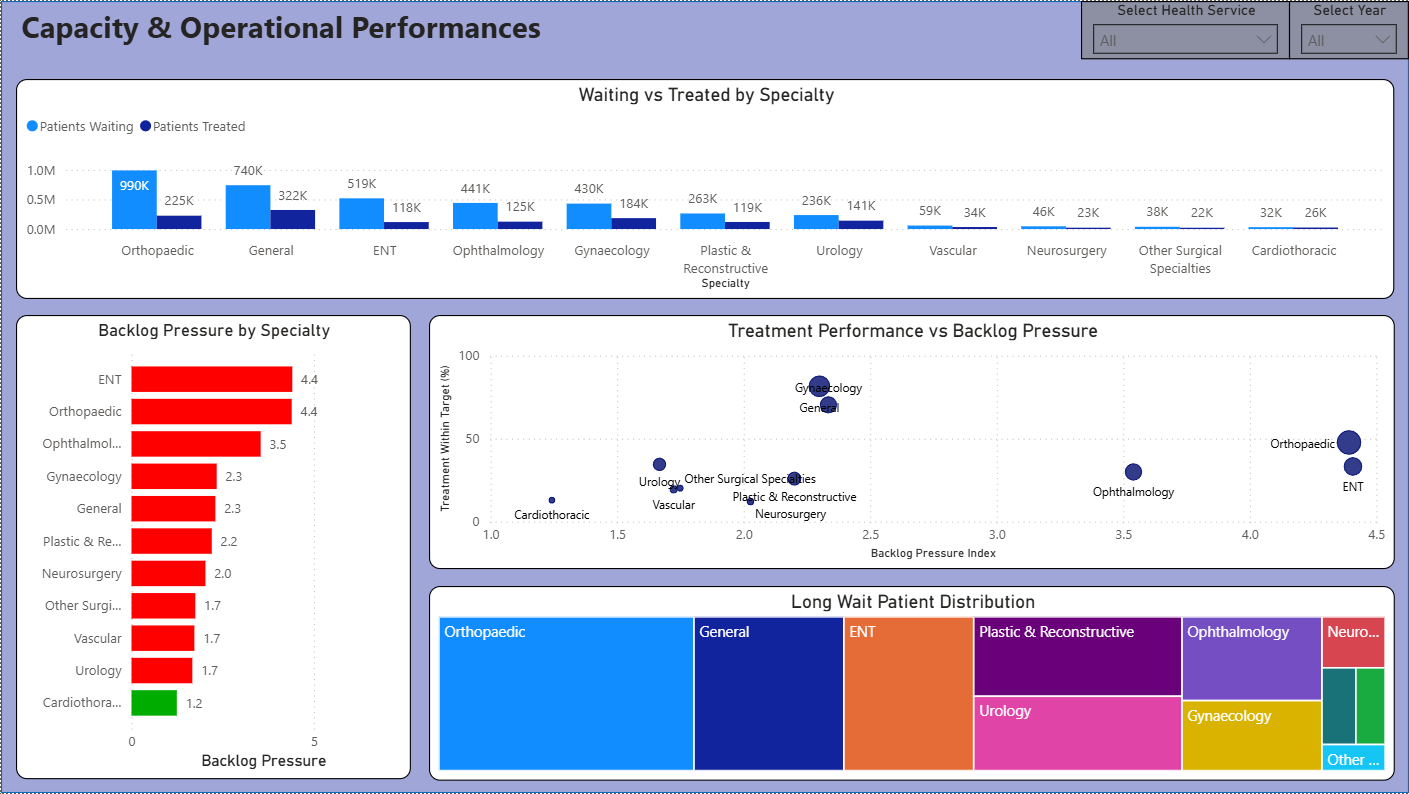

Layout of this report page (visuals, bound fields, positions):
{"tool":"powerbi","page":{"name":"Capacity & Operational Performance","canvas":[1280,720],"ordinal":1},"visuals":[{"type":"shape","box":[0,0,1280,720.1],"z":0},{"type":"clusteredColumnChart","title":"Waiting vs Treated by Specialty","fields":{"Category":["elective_surgery_specialty.speciality_desc"],"Y":["Sum(elective_surgery_specialty.vol_wait)","Sum(elective_surgery_specialty.vol_treated)"]},"box":[13.8,70.7,1253.5,200.4],"z":1000},{"type":"barChart","title":"Backlog Pressure by Specialty","fields":{"Category":["elective_surgery_specialty.speciality_desc"],"Y":["Measures (2).Backlog Pressure Index 2"]},"box":[13.8,285.9,358.6,422.4],"z":2000},{"type":"scatterChart","title":"Treatment Performance vs Backlog Pressure","fields":{"X":["Measures (2).Backlog Pressure Index 2"],"Y":["Avg(elective_surgery_specialty.pct_treated_in_time)"],"Size":["Sum(elective_surgery_specialty.vol_wait)"],"Category":["elective_surgery_specialty.speciality_desc"]},"box":[389,285.9,878.2,230.9],"z":3000},{"type":"treemap","title":"Long Wait Patient Distribution","fields":{"Values":["Sum(elective_surgery_specialty.vol_long_wait)"],"Group":["elective_surgery_specialty.speciality_desc"]},"box":[389,531.5,878.2,176.8],"z":4000},{"type":"textbox","box":[14,0,598,53],"z":5000},{"type":"slicer","title":"Select Year","fields":{"Values":["elective_surgery_specialty.date_year"]},"box":[1171.3,0,108.7,52.6],"z":6000},{"type":"slicer","title":"Select Health Service","fields":{"Values":["elective_surgery_specialty.health_service"]},"box":[981.4,0,189.9,53],"z":7000}]}

Visuals, with their boxes in screenshot pixels (x1, y1, x2, y2), scaled from the page's 1280x720 canvas onto the 1409x794 screenshot:
shape: detection(0, 0, 1408, 793)
"Waiting vs Treated by Specialty" clusteredColumnChart: detection(15, 78, 1395, 299)
"Backlog Pressure by Specialty" barChart: detection(15, 315, 410, 781)
"Treatment Performance vs Backlog Pressure" scatterChart: detection(428, 315, 1395, 570)
"Long Wait Patient Distribution" treemap: detection(428, 586, 1395, 781)
textbox: detection(15, 0, 674, 58)
"Select Year" slicer: detection(1289, 0, 1408, 58)
"Select Health Service" slicer: detection(1080, 0, 1289, 58)
